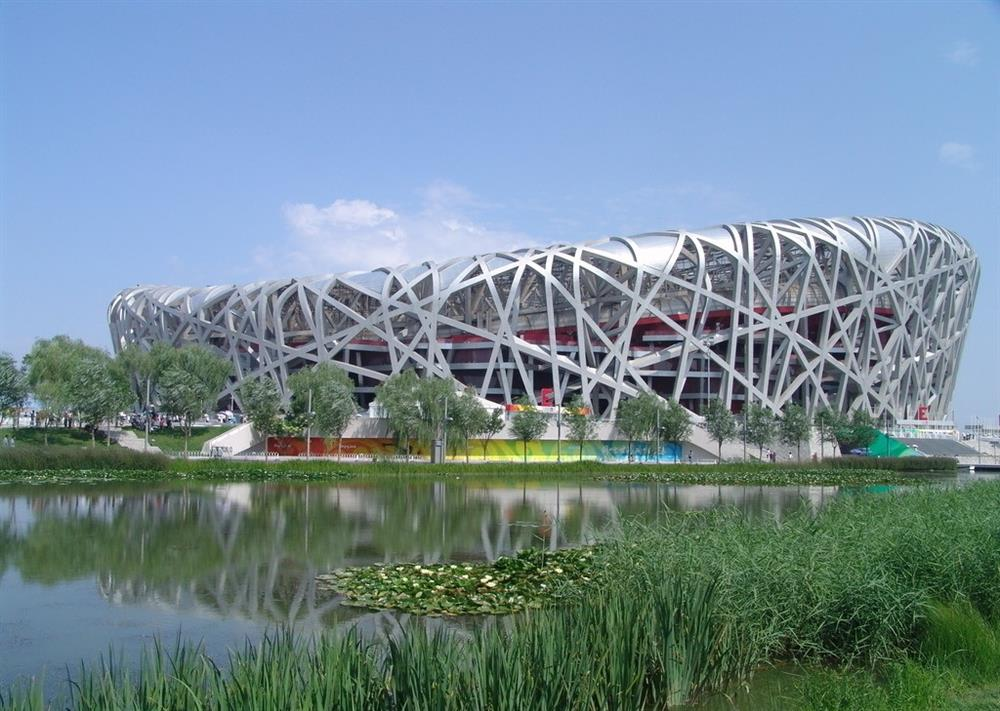National_Stadium: (103, 199, 972, 429)
